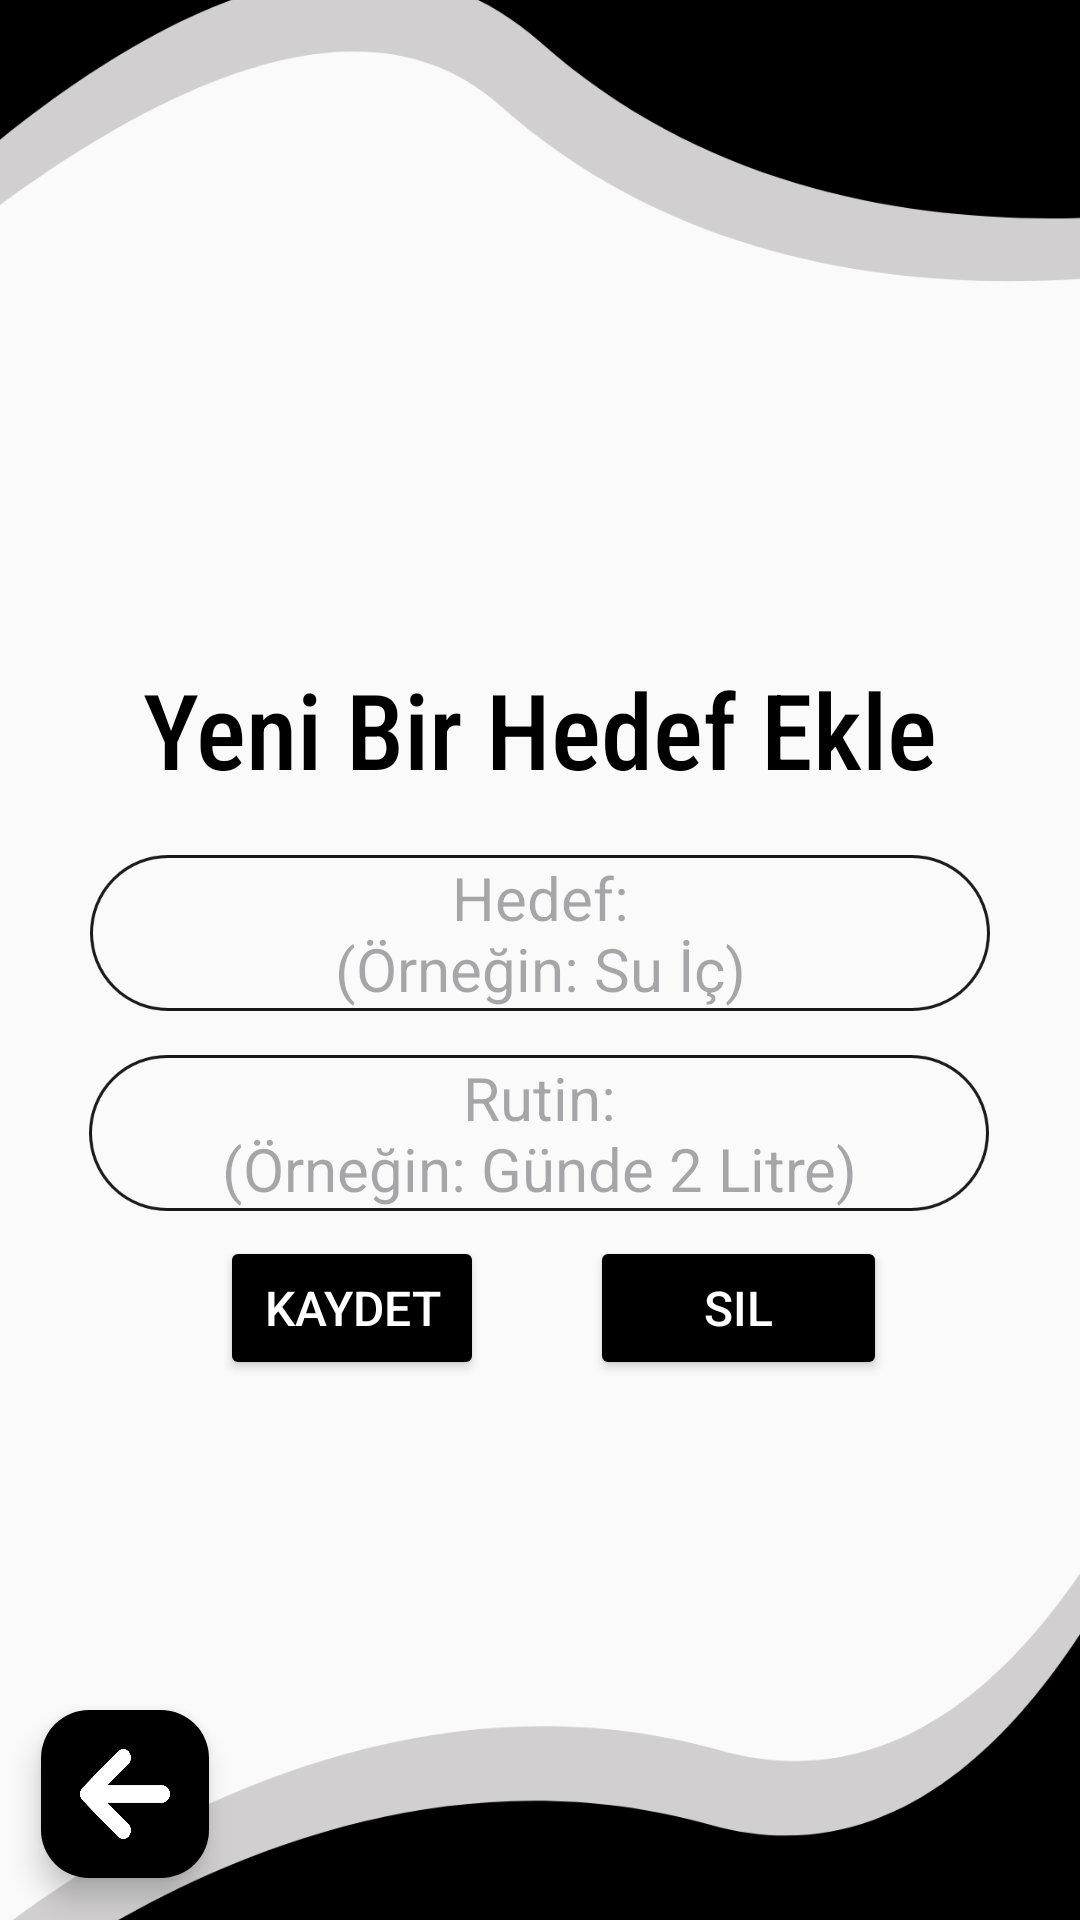

Named icons in this screenshot (1080*1920) and their centers, (x,y):
back: (125,1794)
